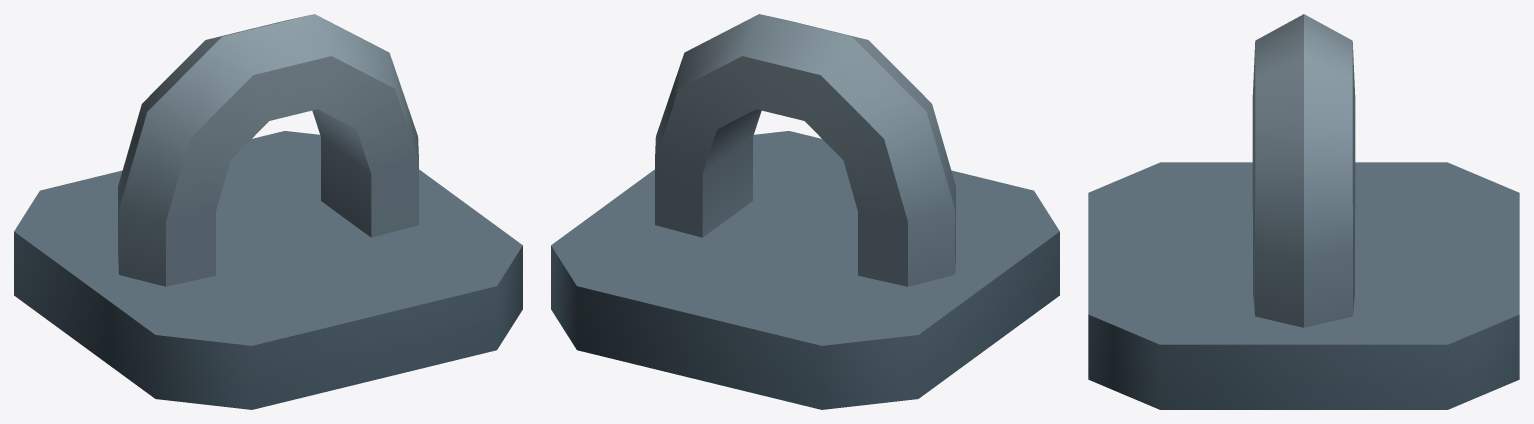
The model's file is chain_anchor.glb.
3 renders of one model, left to right at view 1: azimuth 30°, elevation 25°; view 2: azimuth 150°, elevation 25°; view 3: azimuth 270°, elevation 25°, orthographic.
Visible parts, largest first — view 1: chain_anchor; view 2: chain_anchor; view 3: chain_anchor.
Part boxes in pixels (bbox=[...]): chain_anchor: bbox=[14, 14, 522, 409]; chain_anchor: bbox=[551, 14, 1059, 409]; chain_anchor: bbox=[1088, 14, 1519, 409].
Bounding box in the file's own units: 0.3 × 0.2162 × 0.3.
Materials: 1 (1 with a texture image).
